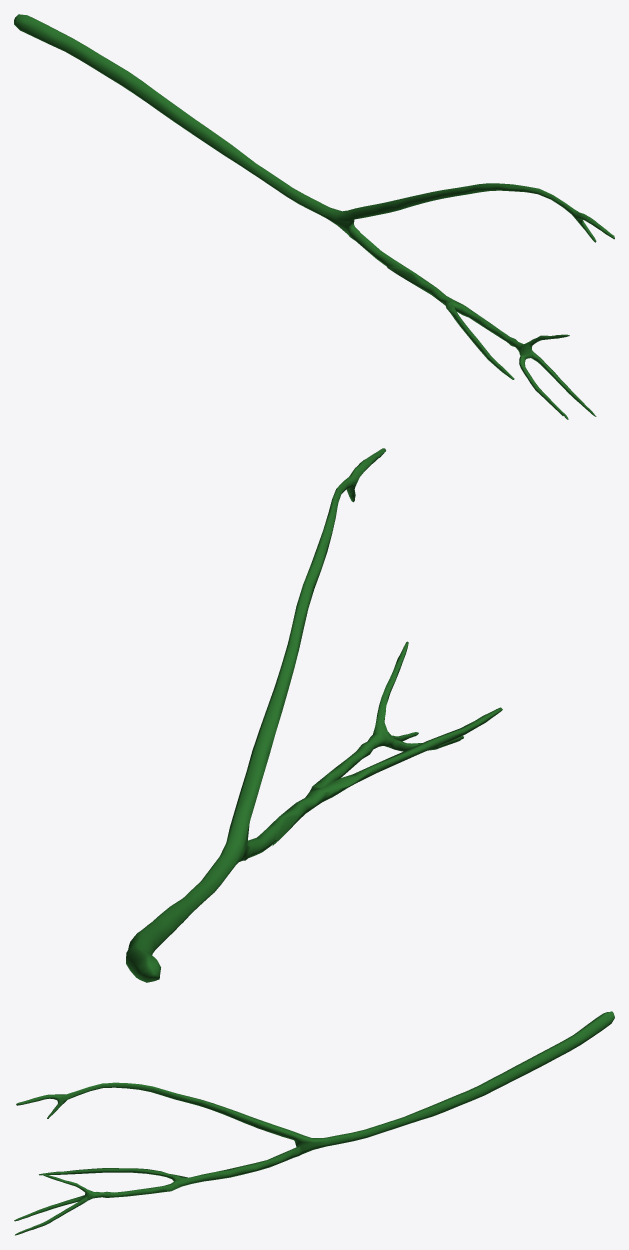
The model's file is Oculomotor_nerve_L.glb.
3 views of the same model, one above another, from view 1: azimuth 30°, elevation 25°; view 2: azimuth 150°, elevation 25°; view 3: azimuth 270°, elevation 25° (orthographic). The views are drawn at different scales.
Visible parts, largest first — view 1: Oculomotor_nerve_L.001; view 2: Oculomotor_nerve_L.001; view 3: Oculomotor_nerve_L.001.
Part boxes in pixels (x1,y1,x2,y2): Oculomotor_nerve_L.001: (14, 14, 614, 419); Oculomotor_nerve_L.001: (126, 448, 502, 982); Oculomotor_nerve_L.001: (14, 1011, 614, 1235).
Bounding box in the file's own units: 0.03 × 0.0235 × 0.0845.
1 material, 1 textured.
